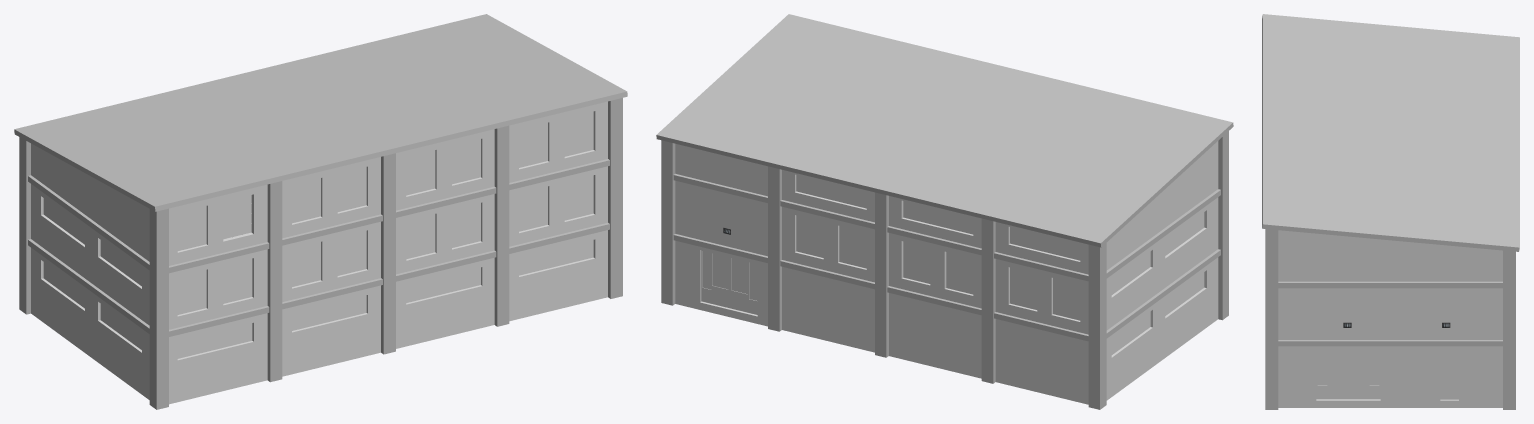
The model's file is build5_LOD1.fbx.
The picture shows the model from 3 angles, left to right: view 1: azimuth 30°, elevation 25°; view 2: azimuth 150°, elevation 25°; view 3: azimuth 270°, elevation 25°; orthographic projection. The views are drawn at different scales.
Parts seen in each view (by area): view 1: polySurface954; view 2: polySurface954; view 3: polySurface954.
Part boxes in pixels (x1=…): polySurface954: x1=14, y1=14, x2=627, y2=409; polySurface954: x1=656, y1=14, x2=1233, y2=409; polySurface954: x1=1262, y1=14, x2=1519, y2=409.
Bounding box in the file's own units: 28.02 × 11.61 × 14.5.
